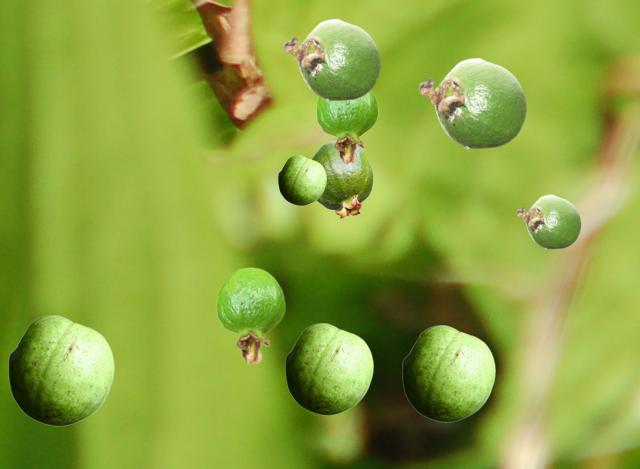guava: (8, 315, 113, 425), (418, 57, 526, 148), (402, 325, 494, 421), (283, 18, 380, 100), (285, 323, 372, 414), (216, 267, 284, 363), (311, 141, 372, 218), (316, 90, 377, 163), (516, 194, 580, 248), (278, 155, 325, 204)
